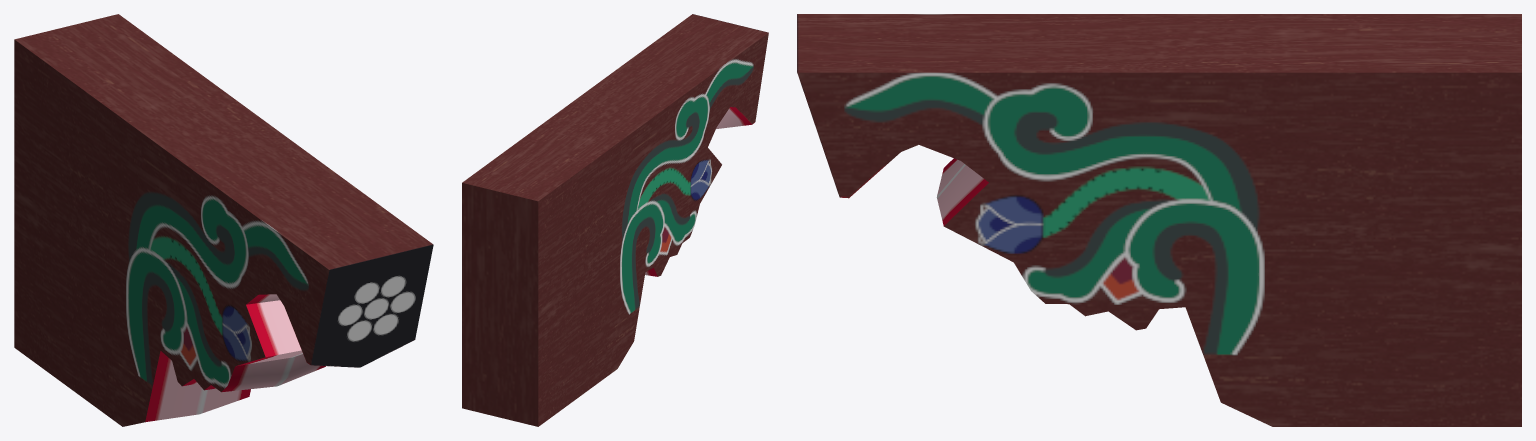
The model's file is SM_Gongpo02c.fbx.
3 renders of one model, left to right at view 1: azimuth 30°, elevation 25°; view 2: azimuth 150°, elevation 25°; view 3: azimuth 270°, elevation 25°, orthographic. The views are drawn at different scales.
Parts seen in each view (by area): view 1: SM_Gongpo02c; view 2: SM_Gongpo02c; view 3: SM_Gongpo02c.
Part boxes in pixels (x1,y1,x2,y2): SM_Gongpo02c: [14, 14, 433, 426]; SM_Gongpo02c: [462, 14, 768, 426]; SM_Gongpo02c: [797, 14, 1521, 426].
Bounding box in the file's own units: 10 × 52.34 × 28.25.
Materials: 1 (1 with a texture image).
